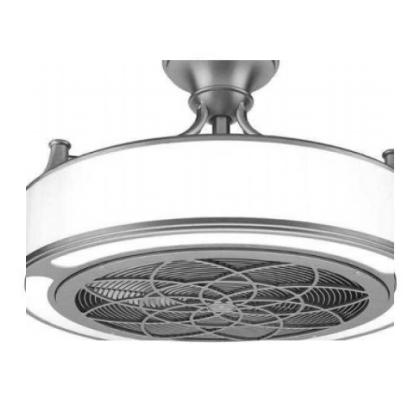ceiling-fan: (26, 60, 395, 341)
